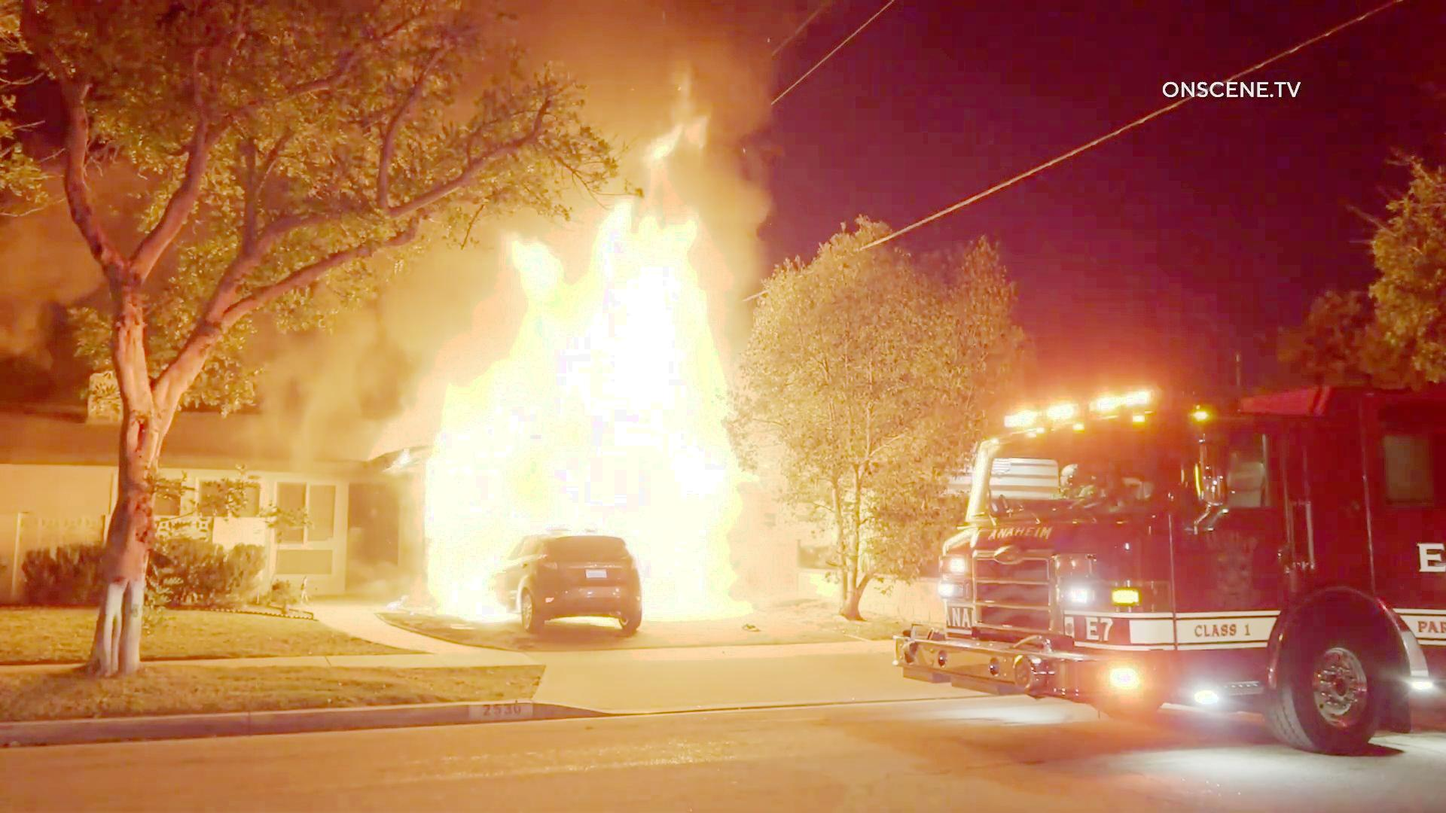fire: (441, 226, 719, 610)
smoke: (477, 4, 760, 118)
